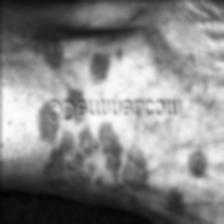Unclassified: (95, 124, 120, 180), (38, 31, 62, 76), (90, 48, 114, 86), (187, 144, 206, 176), (166, 188, 186, 216)
